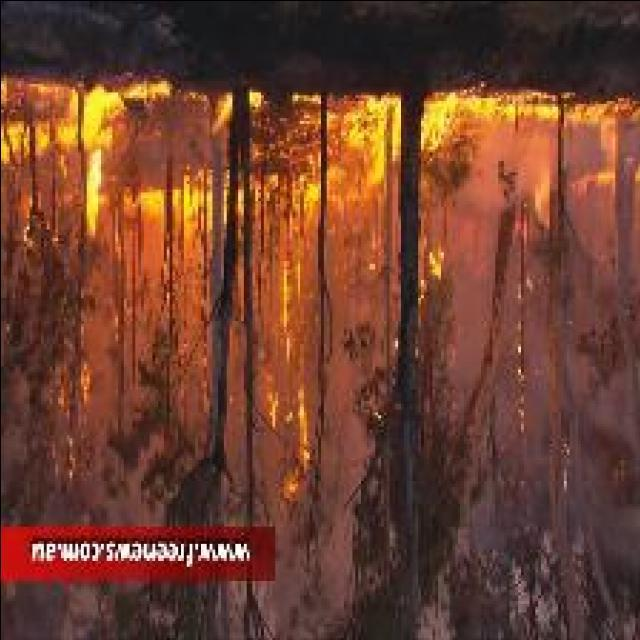Fire: (418, 92, 638, 228), (0, 77, 172, 234), (267, 264, 307, 504), (343, 93, 397, 193), (136, 192, 210, 228), (214, 93, 232, 133), (246, 88, 260, 105)
